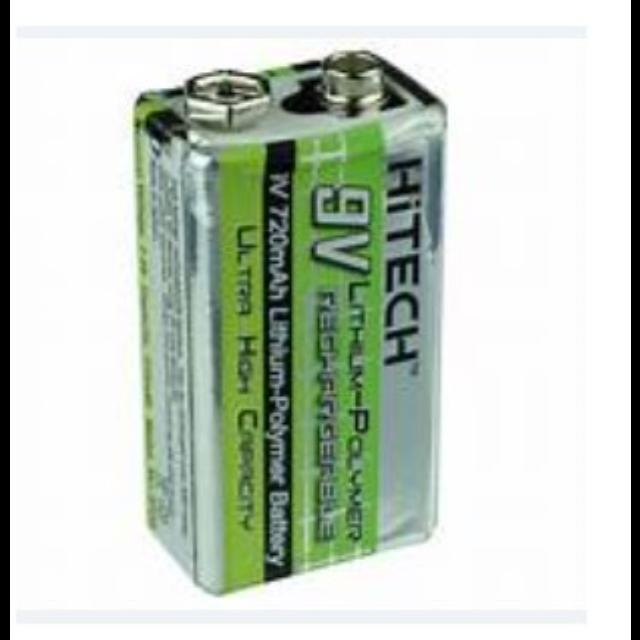Battery: (134, 52, 446, 600)
